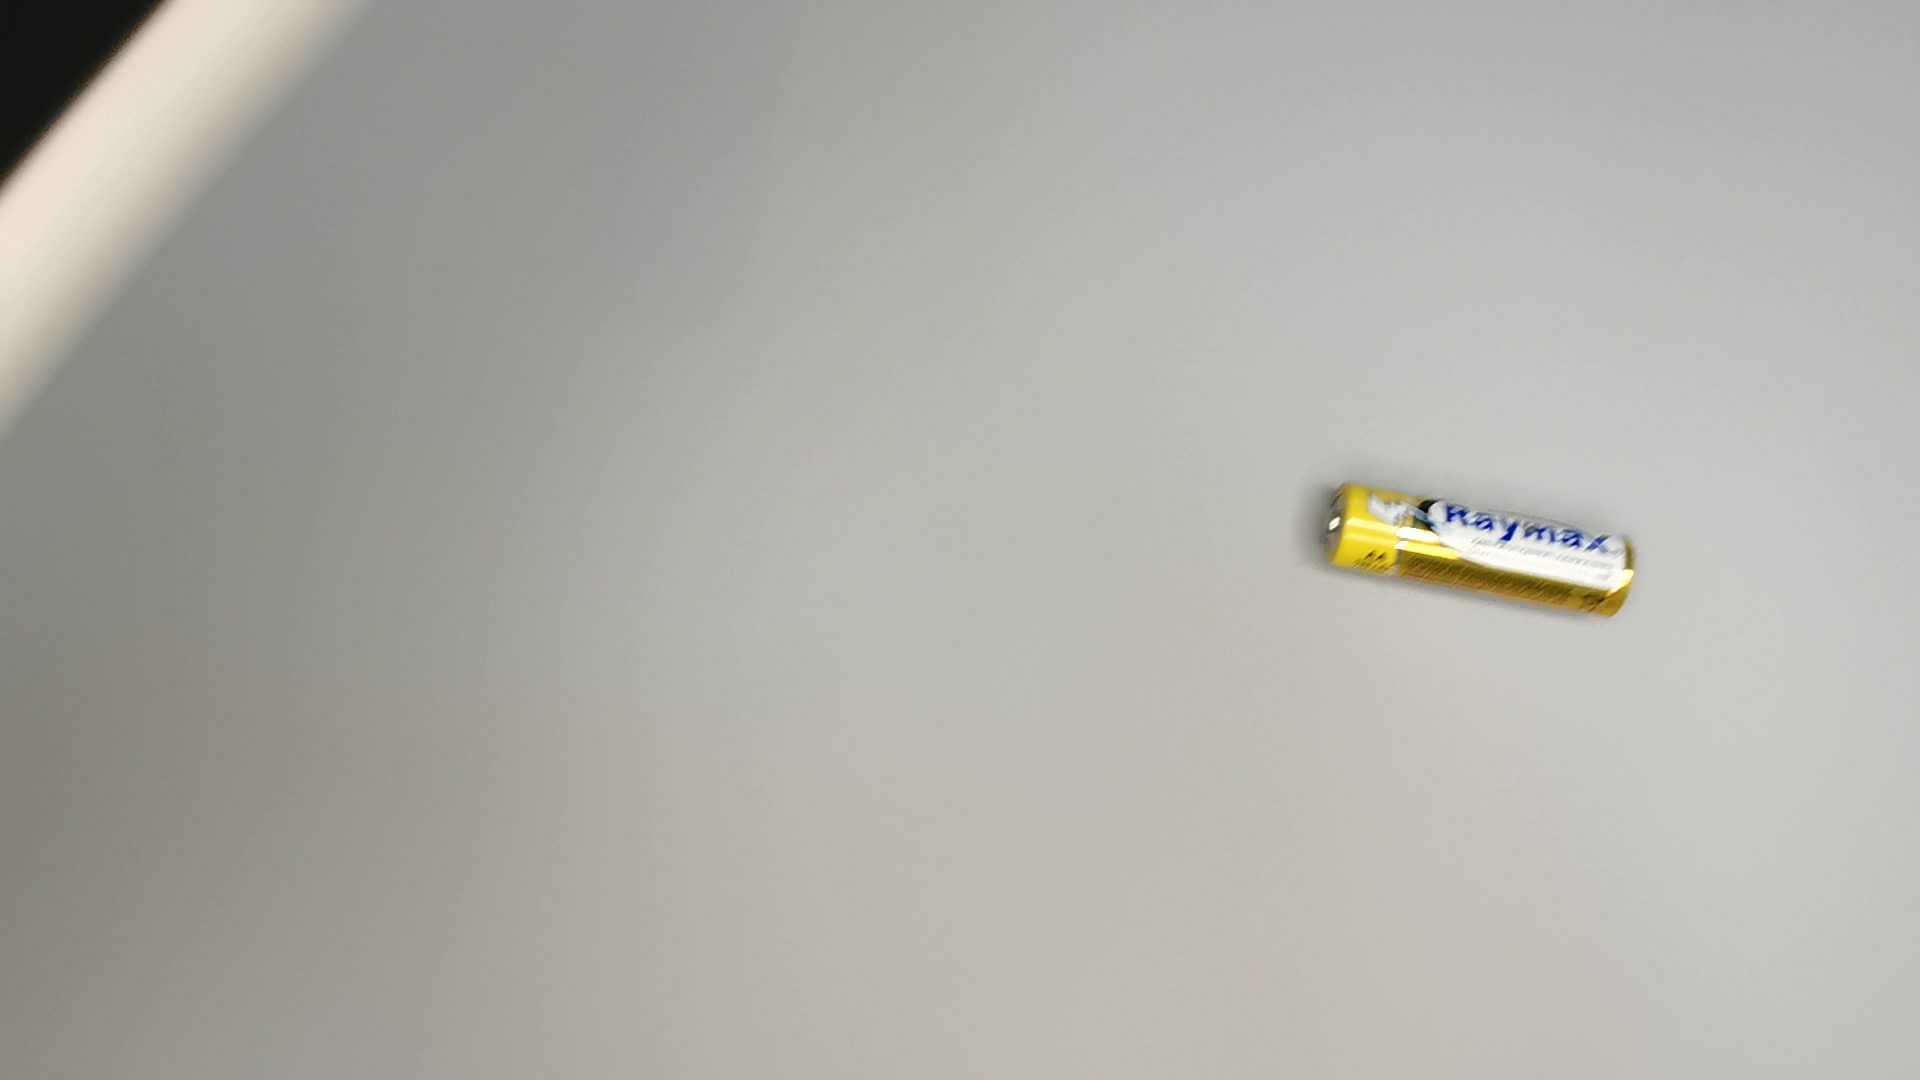battery: (1315, 473, 1640, 626)
